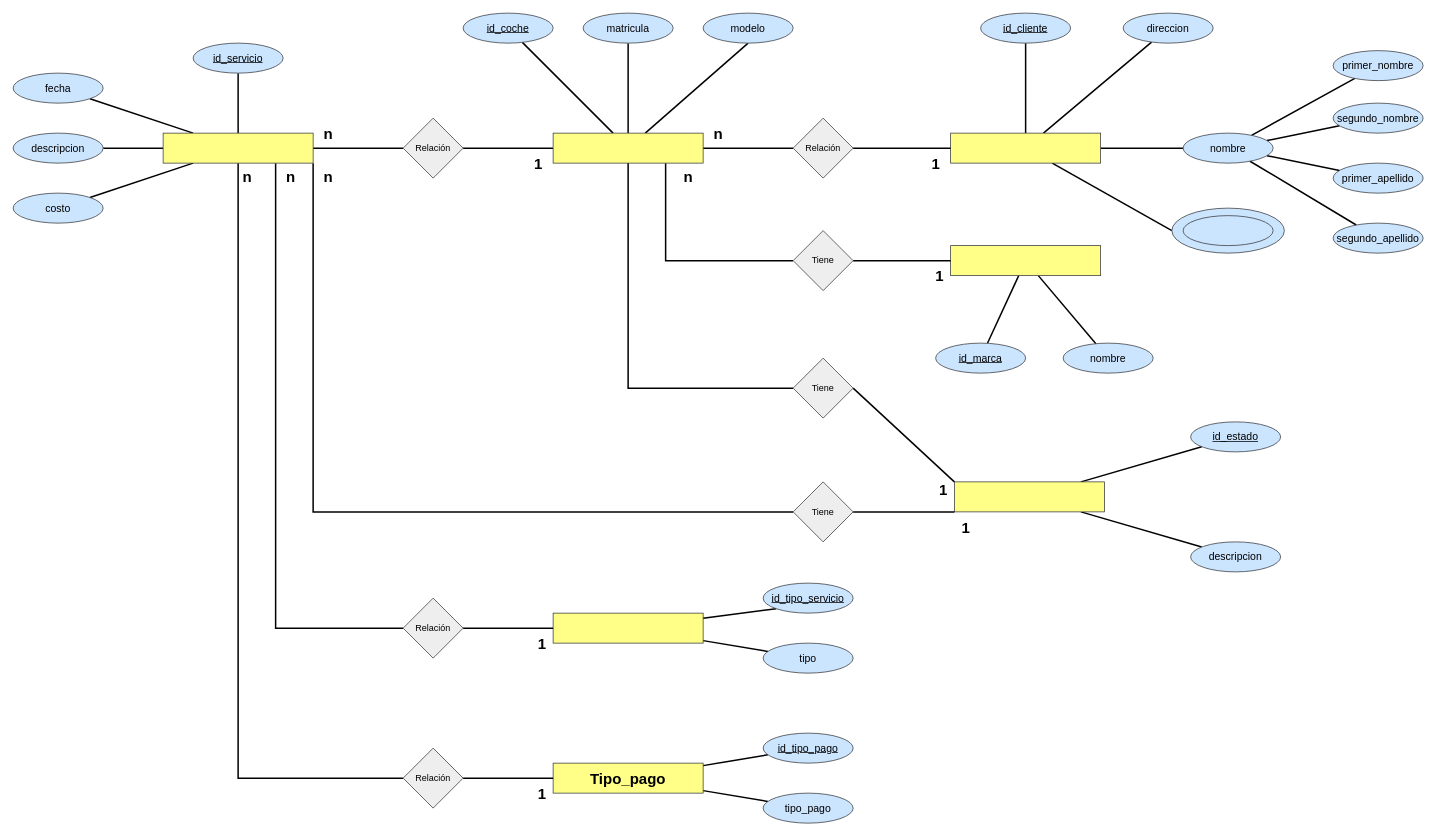
Some shapes in this 1436 by 836 pixel diagram are drawn without their labels. The shapes that lost their labels are listed below. From the top down, each one's centre as x and y in pixels, then its label:
the point at 237,147: Servicios
the point at 627,147: Coches
the point at 1025,147: Clientes
the point at 1227,230: Telefono
the point at 1025,260: Marca
the point at 1029,496: Estado
the point at 627,627: Tipo_servicio
